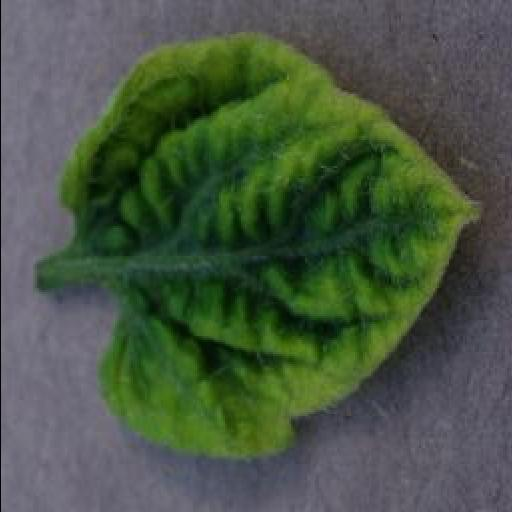disease_tomato: (58, 32, 486, 460)
